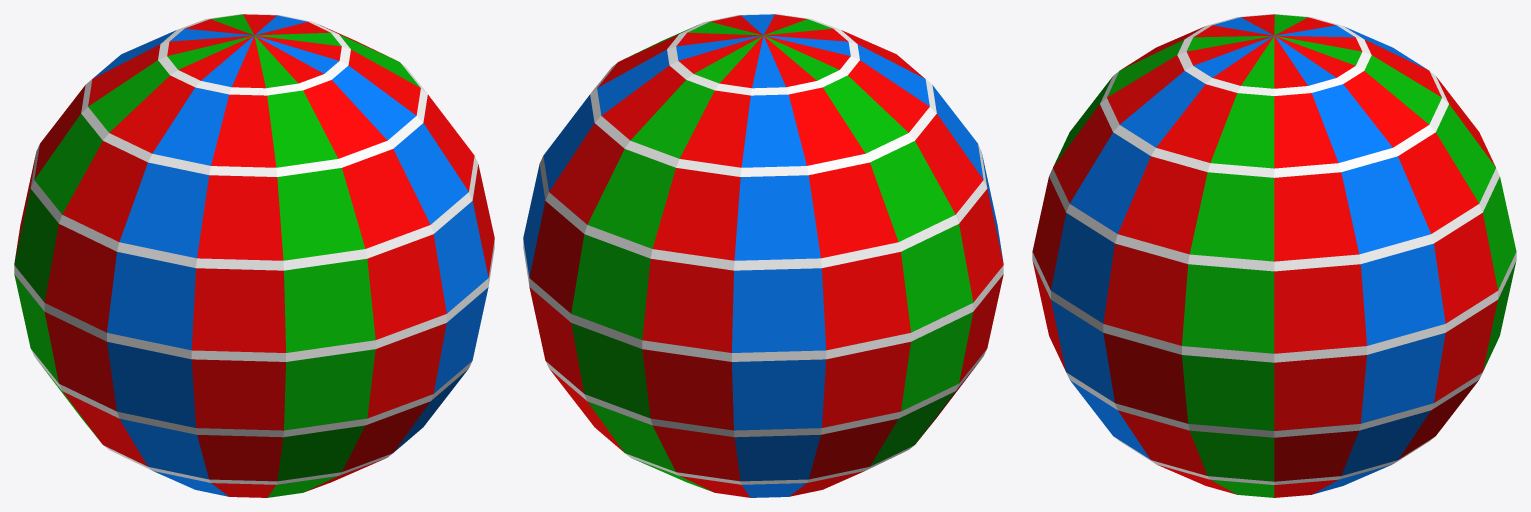
Rendered from BeachBall.fbx.
The picture shows the model from 3 angles, left to right: view 1: azimuth 30°, elevation 25°; view 2: azimuth 150°, elevation 25°; view 3: azimuth 270°, elevation 25°; orthographic projection.
Parts seen in each view (by area): view 1: Sphere.002; view 2: Sphere.002; view 3: Sphere.002.
Boxes of the visible parts, bbox=[...] form: Sphere.002: bbox=[14, 14, 494, 497]; Sphere.002: bbox=[523, 14, 1003, 497]; Sphere.002: bbox=[1032, 14, 1516, 497].
Bounding box in the file's own units: 9.96 × 10 × 9.96.
